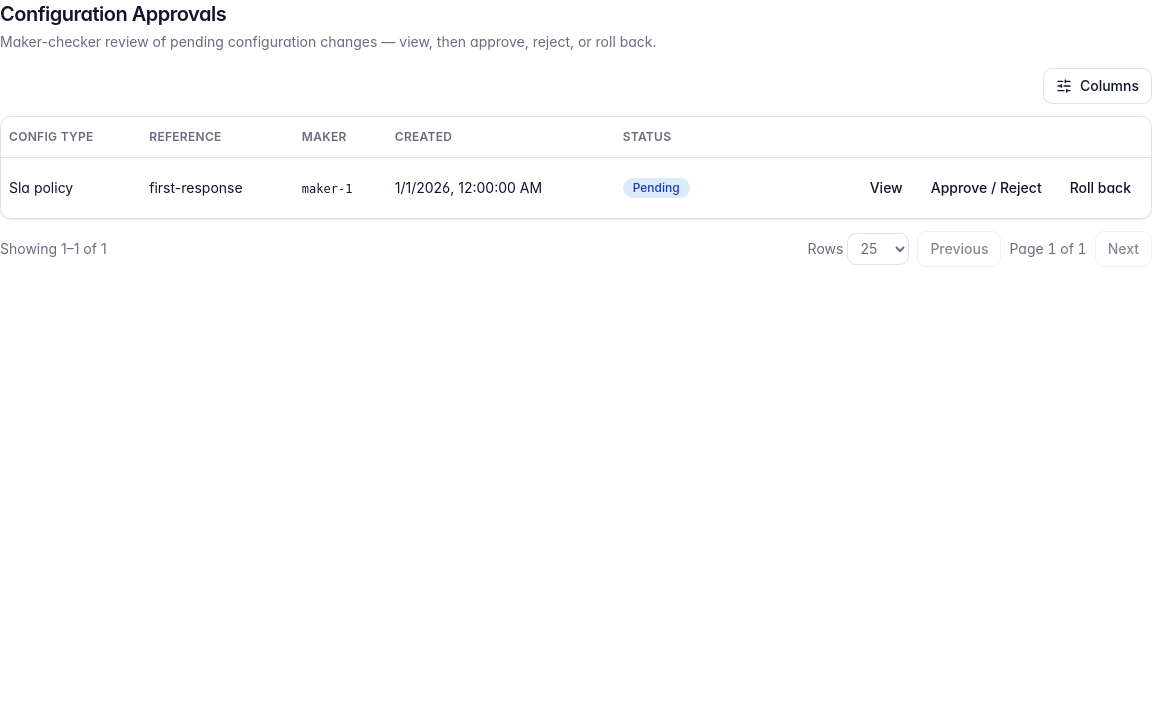
Test: ConfigGovernancePage › shows the row diff in a modal from the View action
Click the button "View". click: (886, 188)
box: [858,170,915,206]
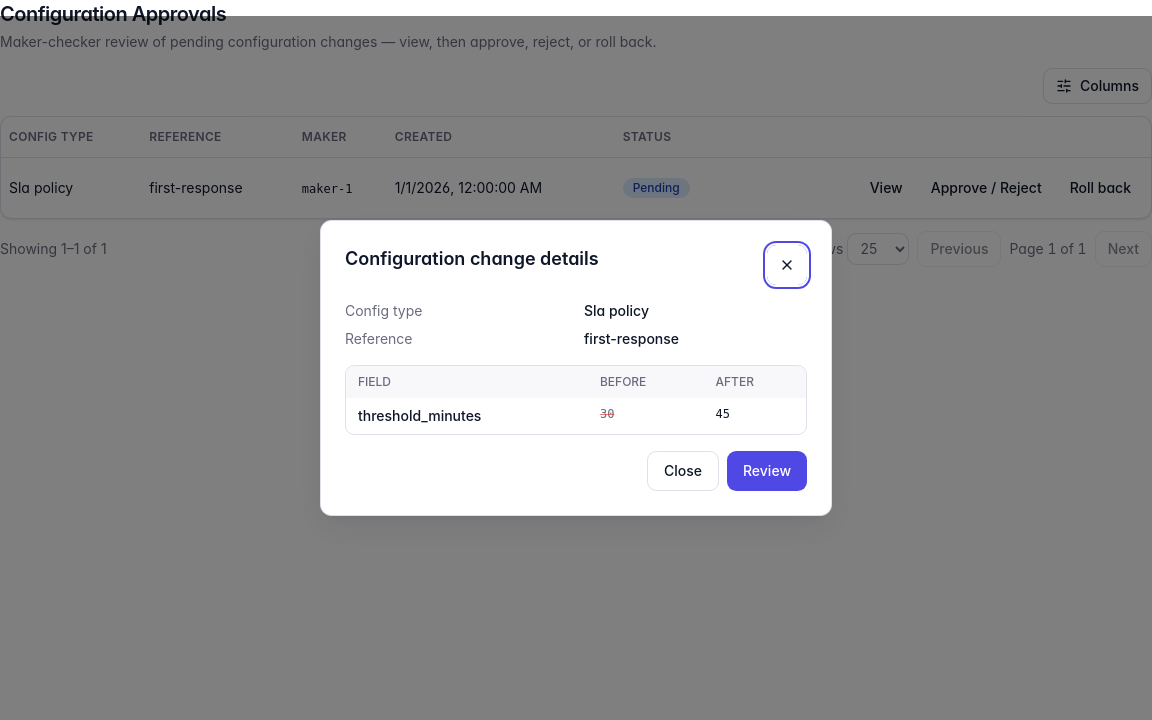
Result: the heading "Configuration change details" is shown at [345,245,599,273]
Result: the column heading "threshold_minutes" is shown at [346,398,588,434]
Result: the text "45" is shown at [704,398,806,434]
